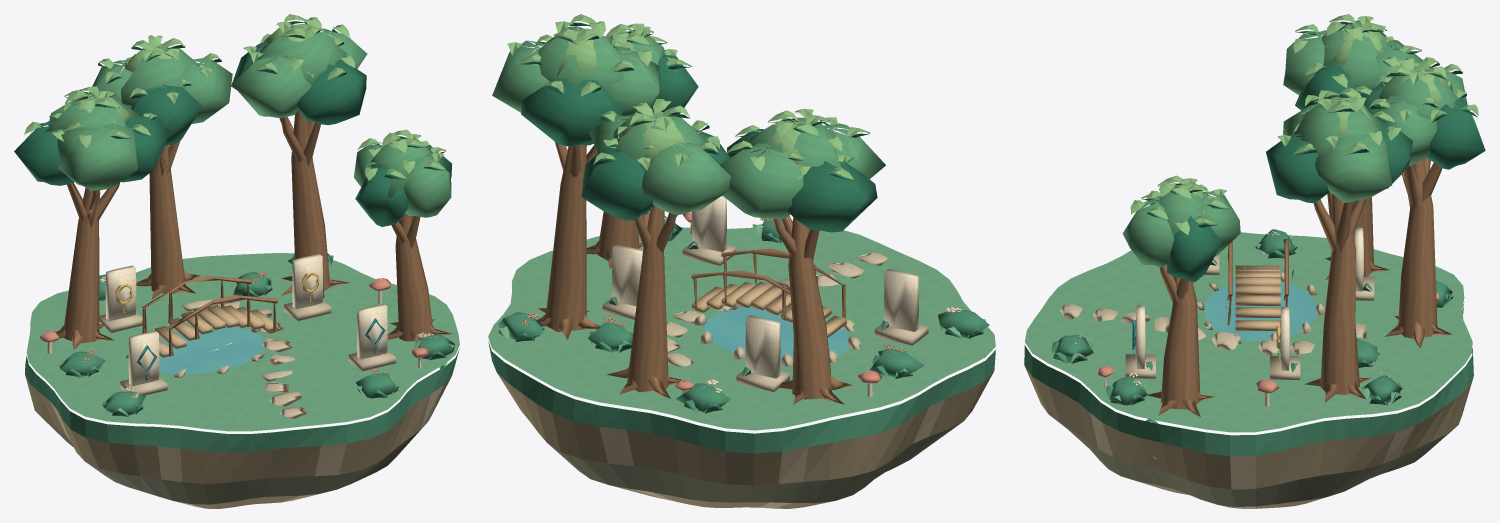
The picture shows the model from 3 angles, left to right: view 1: azimuth 30°, elevation 25°; view 2: azimuth 150°, elevation 25°; view 3: azimuth 270°, elevation 25°; orthographic projection. The views are drawn at different scales.
Parts seen in each view (by area): view 1: memory-world_Forest grass and soft moss carpet, memory-world_Forest sage leaf canopies, memory-world_Forest warm sculpted bark, memory-world_Forest deep jade leaf undersides, memory-world_Forest deep moss roots and ground cover, memory-world_Forest weathered limestone cliff, memory-world_Forest pale exposed cliff faces, memory-world_Forest sunlit lime leaf crowns, memory-world_Forest ivory memory tablets and petals, memory-world_Forest deep sediment seams, memory-world_Forest shallow turquoise pond, memory-world_Forest honey bridge planks (+2 smaller); view 2: memory-world_Forest grass and soft moss carpet, memory-world_Forest warm sculpted bark, memory-world_Forest sage leaf canopies, memory-world_Forest deep moss roots and ground cover, memory-world_Forest deep jade leaf undersides, memory-world_Forest weathered limestone cliff, memory-world_Forest sunlit lime leaf crowns, memory-world_Forest pale exposed cliff faces, memory-world_Forest ivory memory tablets and petals, memory-world_Forest deep sediment seams, memory-world_Forest shallow turquoise pond, memory-world_Forest honey bridge planks (+1 smaller); view 3: memory-world_Forest grass and soft moss carpet, memory-world_Forest sage leaf canopies, memory-world_Forest warm sculpted bark, memory-world_Forest deep moss roots and ground cover, memory-world_Forest weathered limestone cliff, memory-world_Forest deep jade leaf undersides, memory-world_Forest sunlit lime leaf crowns, memory-world_Forest pale exposed cliff faces, memory-world_Forest deep sediment seams, memory-world_Forest shallow turquoise pond, memory-world_Forest honey bridge planks, memory-world_Forest ivory memory tablets and petals.
Boxes of the visible parts, x1,y1,x2,y2 form: memory-world_Forest grass and soft moss carpet: (26, 253, 459, 431); memory-world_Forest sage leaf canopies: (45, 23, 451, 217); memory-world_Forest warm sculpted bark: (56, 110, 452, 356); memory-world_Forest deep jade leaf undersides: (14, 21, 451, 416); memory-world_Forest deep moss roots and ground cover: (25, 253, 459, 452); memory-world_Forest weathered limestone cliff: (25, 375, 451, 508); memory-world_Forest pale exposed cliff faces: (50, 299, 442, 508); memory-world_Forest sunlit lime leaf crowns: (24, 14, 446, 180); memory-world_Forest ivory memory tablets and petals: (47, 254, 433, 397); memory-world_Forest deep sediment seams: (44, 420, 420, 504); memory-world_Forest shallow turquoise pond: (159, 326, 264, 374); memory-world_Forest honey bridge planks: (155, 305, 277, 357); memory-world_Forest grass and soft moss carpet: (488, 224, 995, 430); memory-world_Forest warm sculpted bark: (537, 142, 852, 404); memory-world_Forest sage leaf canopies: (492, 26, 885, 218); memory-world_Forest deep moss roots and ground cover: (488, 216, 995, 453); memory-world_Forest deep jade leaf undersides: (498, 22, 983, 413); memory-world_Forest weathered limestone cliff: (497, 372, 993, 508); memory-world_Forest sunlit lime leaf crowns: (507, 14, 869, 180); memory-world_Forest pale exposed cliff faces: (599, 243, 945, 508); memory-world_Forest ivory memory tablets and petals: (612, 195, 962, 396); memory-world_Forest deep sediment seams: (547, 422, 962, 503); memory-world_Forest shallow turquoise pond: (703, 307, 850, 361); memory-world_Forest honey bridge planks: (692, 282, 846, 337); memory-world_Forest grass and soft moss carpet: (1025, 232, 1472, 432); memory-world_Forest sage leaf canopies: (1122, 20, 1467, 267); memory-world_Forest warm sculpted bark: (1148, 157, 1452, 416); memory-world_Forest deep moss roots and ground cover: (1024, 229, 1473, 459); memory-world_Forest weathered limestone cliff: (1025, 366, 1473, 508); memory-world_Forest deep jade leaf undersides: (1053, 21, 1485, 405); memory-world_Forest sunlit lime leaf crowns: (1130, 14, 1478, 234); memory-world_Forest pale exposed cliff faces: (1060, 254, 1415, 508); memory-world_Forest deep sediment seams: (1051, 416, 1455, 506); memory-world_Forest shallow turquoise pond: (1204, 281, 1316, 341); memory-world_Forest honey bridge planks: (1235, 265, 1280, 330); memory-world_Forest ivory memory tablets and petals: (1104, 227, 1363, 406).
Size of the model in its own units: 4.11 by 4.18 by 3.93.
Materials: 15 (15 with a texture image).
